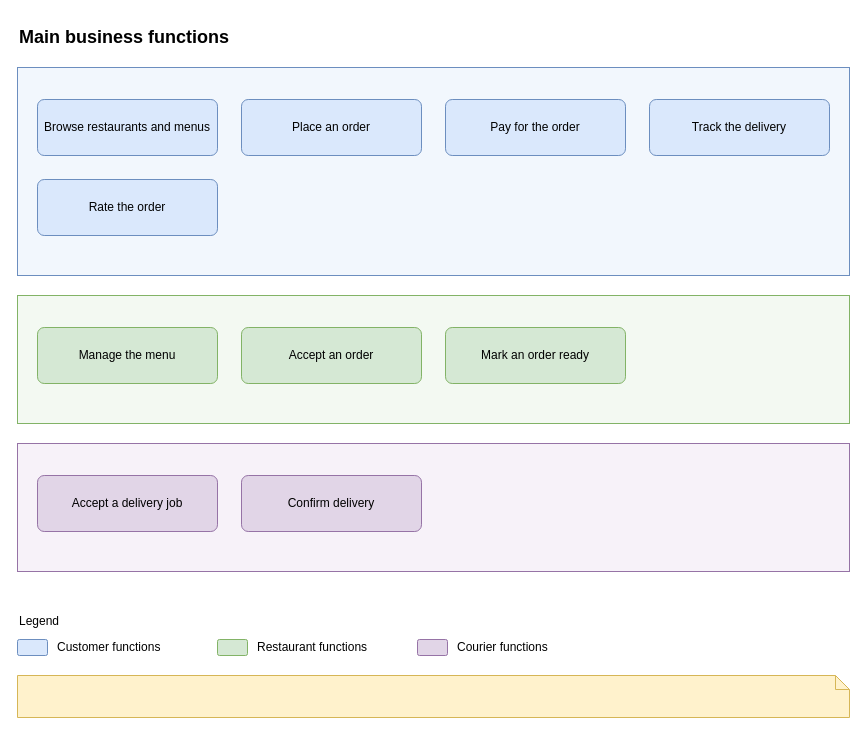
Some shapes in this 867 by 735 pixel diagram are drawn without their labels. The box of each missing label's shape, as (x1, y1, x2, y2) in pixels:
Courier functions (Courier): (16, 442, 850, 572)
Customer functions (Customer): (16, 66, 850, 276)
Functions are grouped by the actor who uses them; colours mark the groups.: (16, 674, 850, 718)
Restaurant functions (Restaurant staff): (16, 294, 850, 424)
